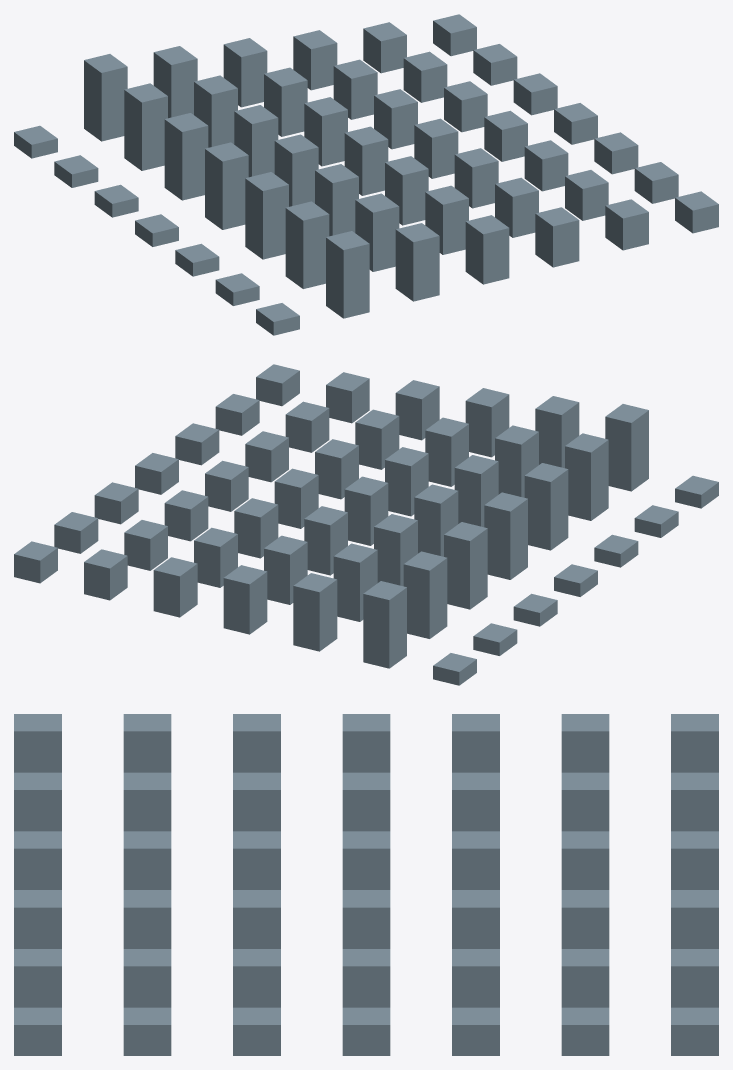
Rendered from training-city.glb.
The picture shows the model from 3 angles, top to bottom: view 1: azimuth 30°, elevation 25°; view 2: azimuth 150°, elevation 25°; view 3: azimuth 270°, elevation 25°; orthographic projection. The views are drawn at different scales.
Size of the model in its own units: 1020 by 150 by 1030.
